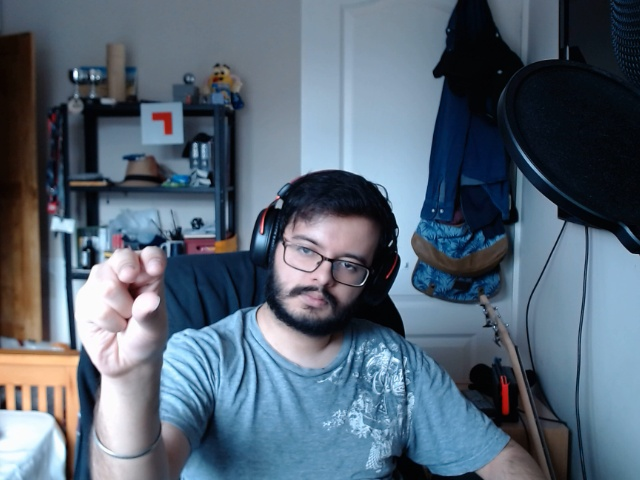No: (70, 239, 182, 383)
